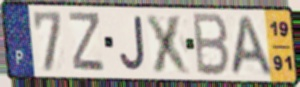7: (30, 8, 64, 74)
A: (228, 13, 276, 78)
B: (192, 11, 232, 79)
J: (118, 14, 148, 73)
X: (144, 12, 194, 76)
Z: (67, 11, 106, 75)
